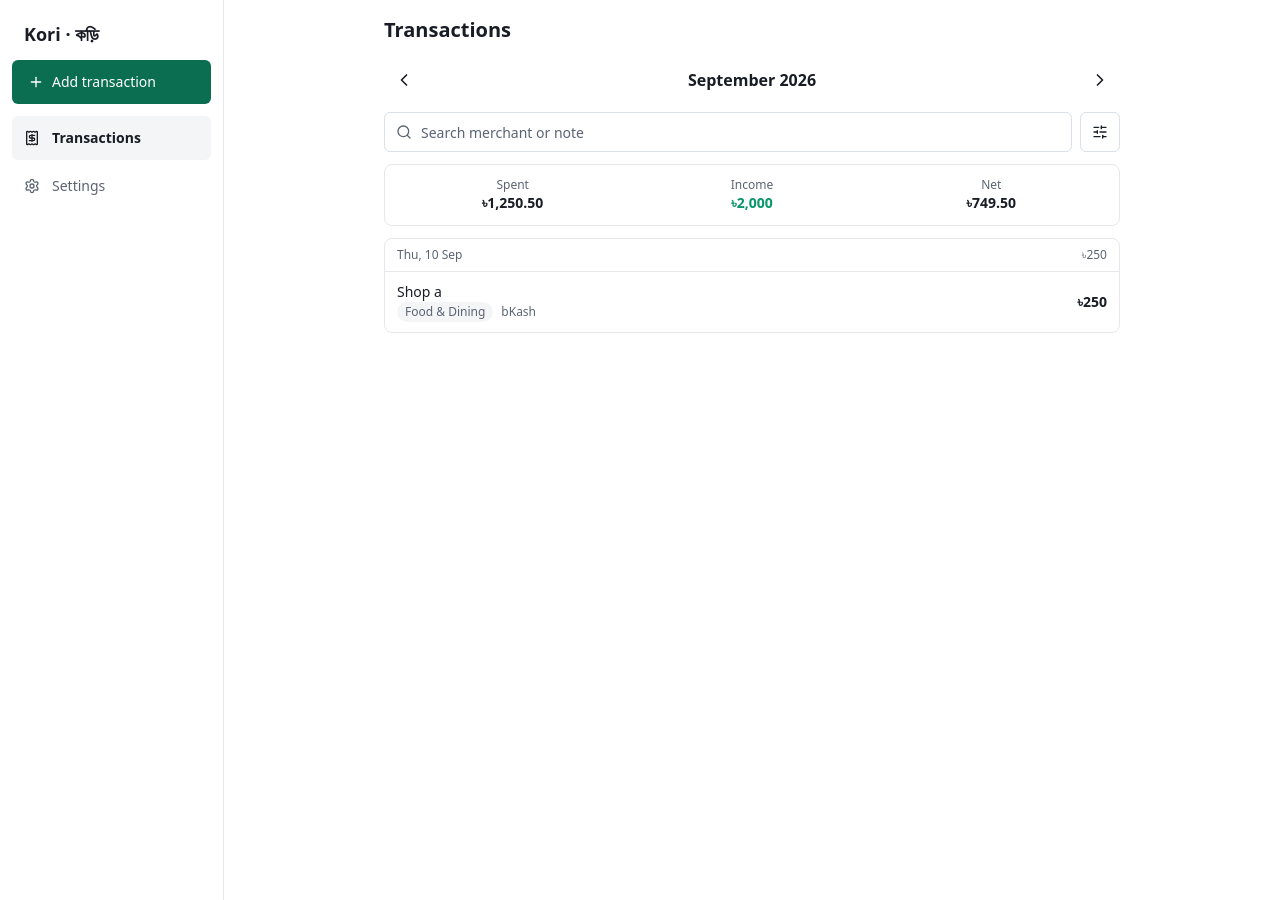
Test: transactions list › switches months through the URL and refetches
Check: the text "Shop a" is shown, box [397,282,442,301]
Click the button named "Previous month" at (404, 80), box [384,60,424,100]
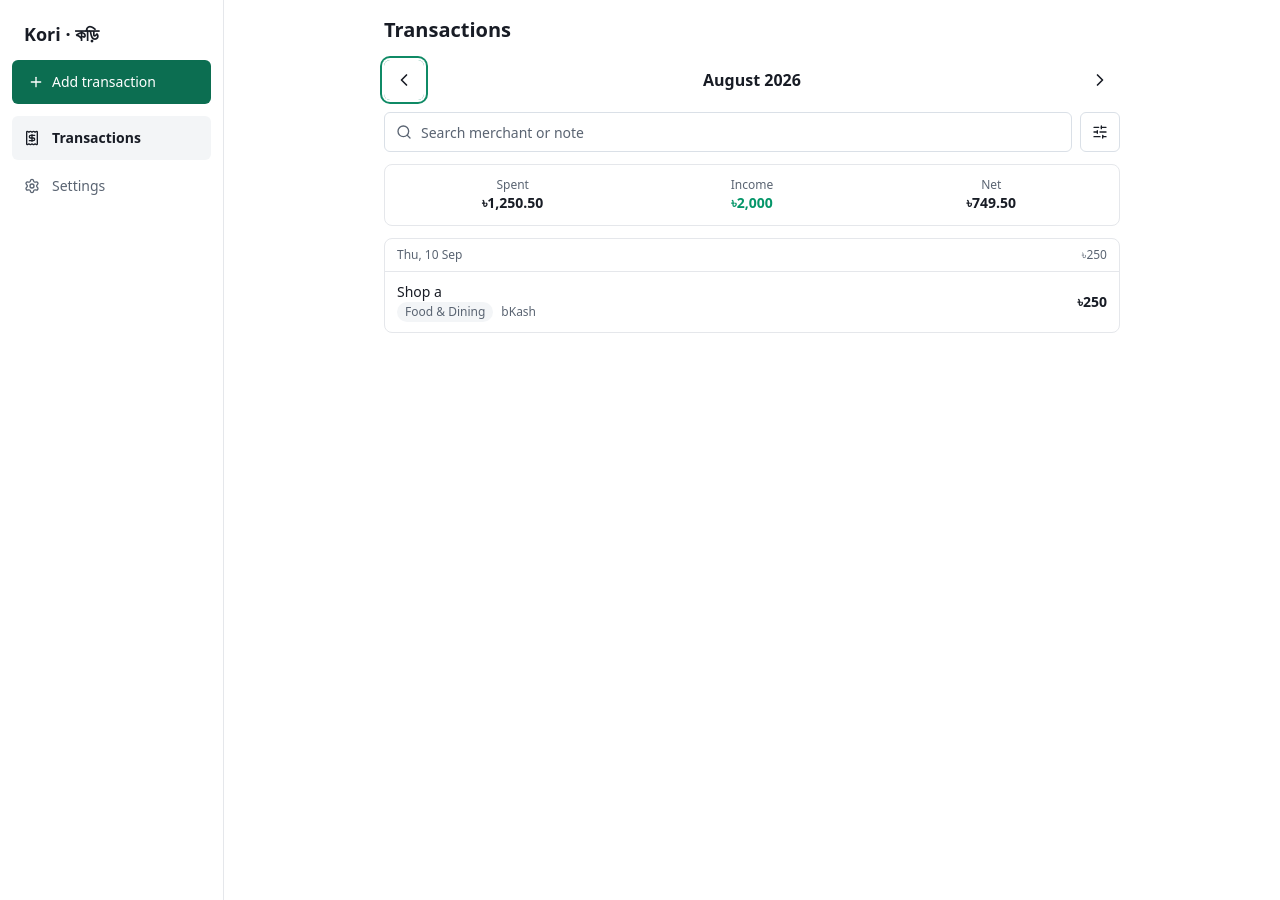
Check: the text "August 2026" is shown, box [703,69,801,91]
